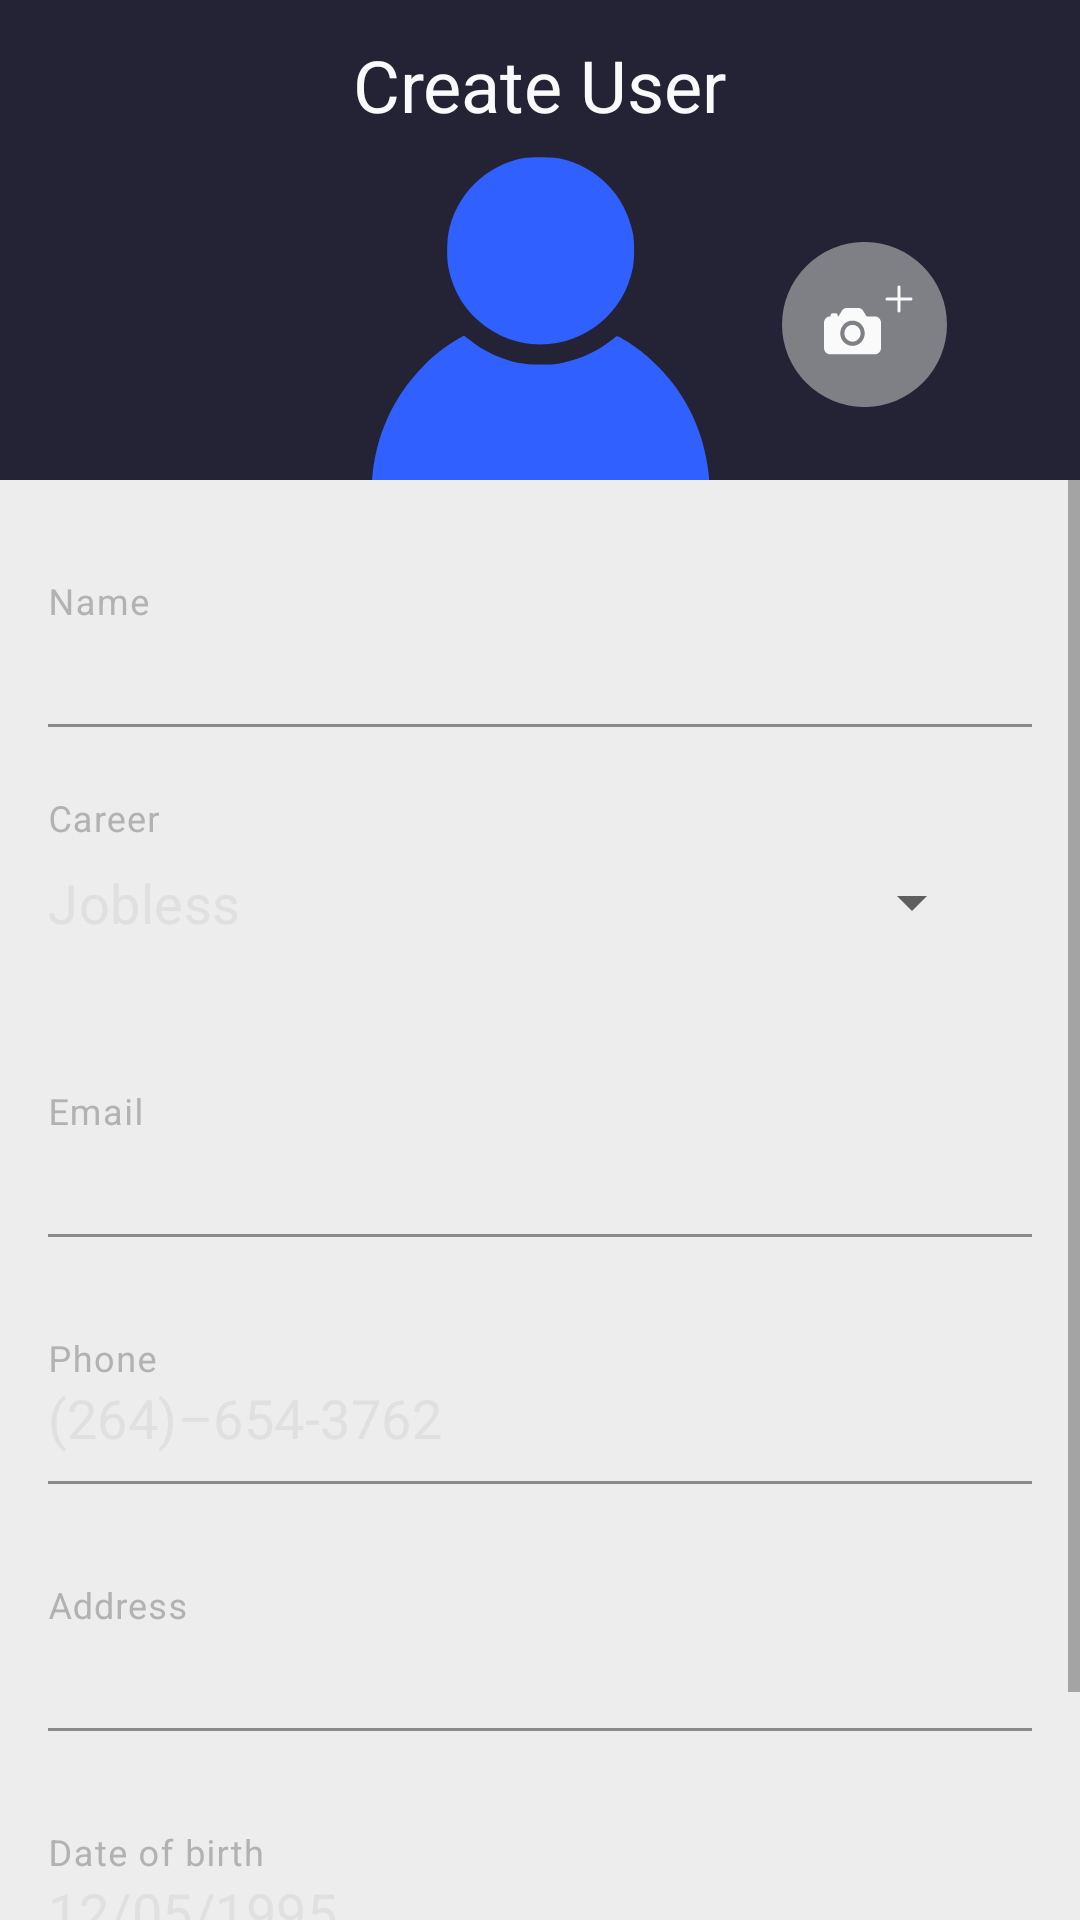

Icons on this 1080x1920 Android screen, each with its box as [x1, y1, x2, y2]:
addfoto: [782, 242, 947, 407]
